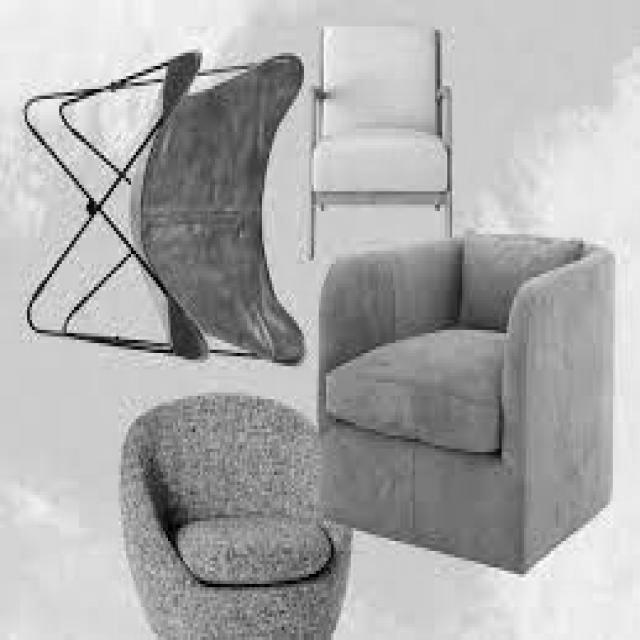chair: (316, 226, 622, 578), (22, 45, 308, 372), (118, 392, 360, 640), (302, 22, 459, 267)
